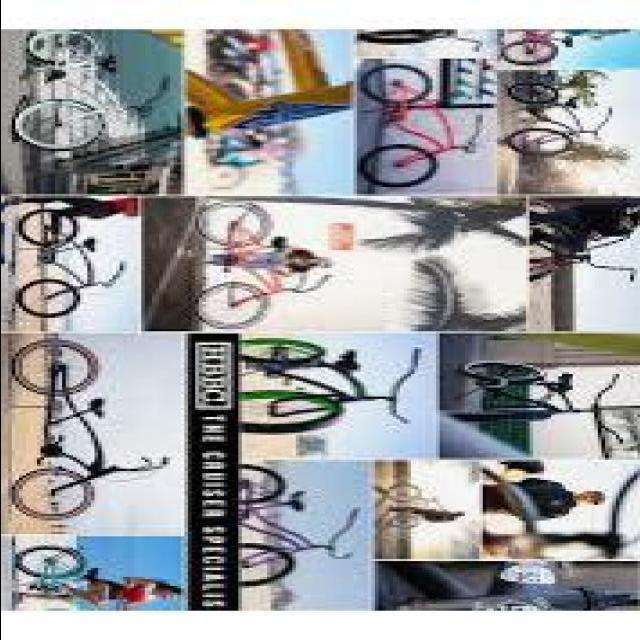bicycle: (8, 339, 170, 524), (16, 30, 188, 160), (238, 337, 425, 436), (357, 64, 490, 188), (195, 204, 321, 330), (235, 465, 357, 589), (15, 211, 130, 319), (450, 362, 612, 425), (501, 75, 616, 161), (16, 547, 116, 610), (375, 486, 461, 529), (500, 31, 576, 67)
